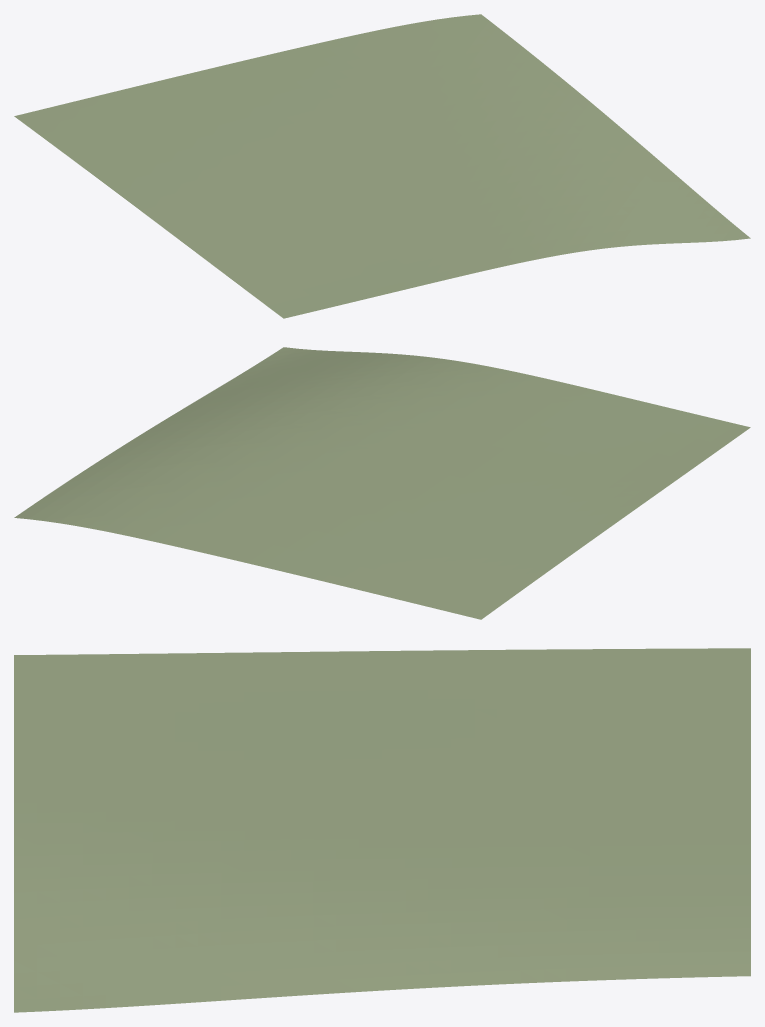
The model's file is desert-13-27.glb.
3 renders of one model, top to bottom at view 1: azimuth 30°, elevation 25°; view 2: azimuth 150°, elevation 25°; view 3: azimuth 270°, elevation 25°, orthographic. The views are drawn at different scales.
Visible parts, largest first — view 1: desert-13-27; view 2: desert-13-27; view 3: desert-13-27.
Part boxes in pixels (x1,y1,x2,y2): desert-13-27: [14, 14, 750, 318]; desert-13-27: [14, 347, 750, 619]; desert-13-27: [14, 648, 750, 1012].
Bounding box in the file's own units: 512 × 40.57 × 512.
